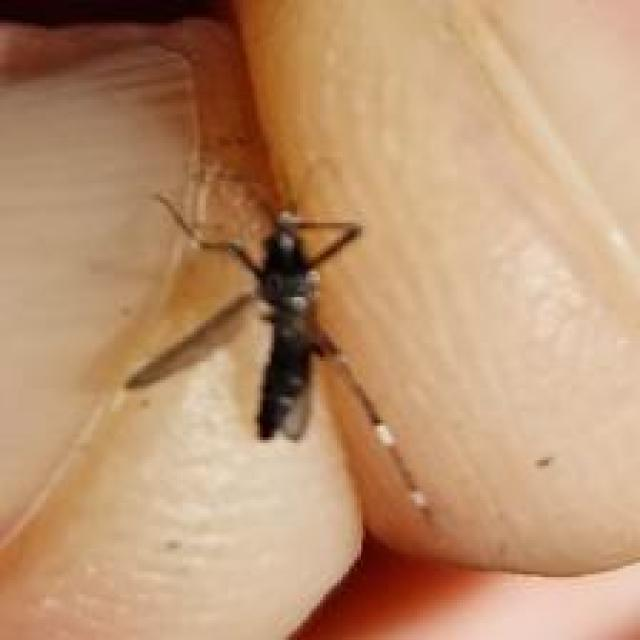Aedes albopictus: (124, 156, 436, 527)
